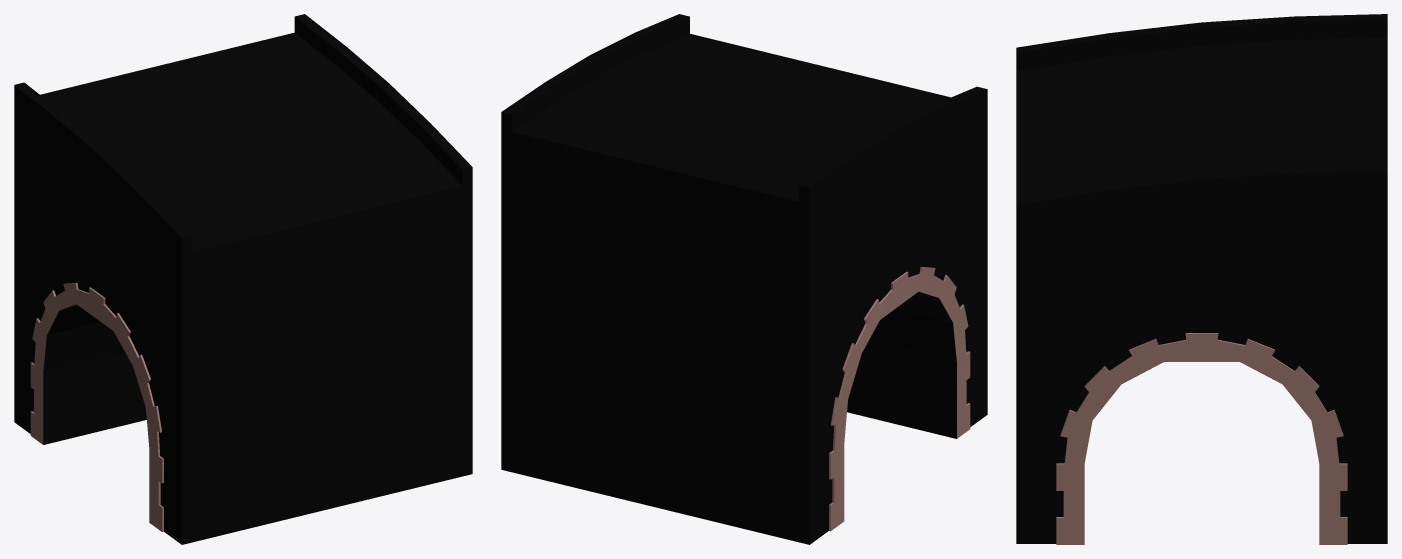
File: SW_ENV_WalledRiserEnd_DoubleTrack_Collision.fbx
The picture shows the model from 3 angles, left to right: view 1: azimuth 30°, elevation 25°; view 2: azimuth 150°, elevation 25°; view 3: azimuth 270°, elevation 25°; orthographic projection. The views are drawn at different scales.
Parts seen in each view (by area): view 1: SW_ENV_WalledRiserEnd_DoubleTrack_Collision; view 2: SW_ENV_WalledRiserEnd_DoubleTrack_Collision; view 3: SW_ENV_WalledRiserEnd_DoubleTrack_Collision.
Part boxes in pixels (x1,y1,x2,y2): SW_ENV_WalledRiserEnd_DoubleTrack_Collision: (14,14,472,544); SW_ENV_WalledRiserEnd_DoubleTrack_Collision: (501,14,987,544); SW_ENV_WalledRiserEnd_DoubleTrack_Collision: (1016,14,1387,544).
Size of the model in its own units: 10.13 by 11.08 by 10.
